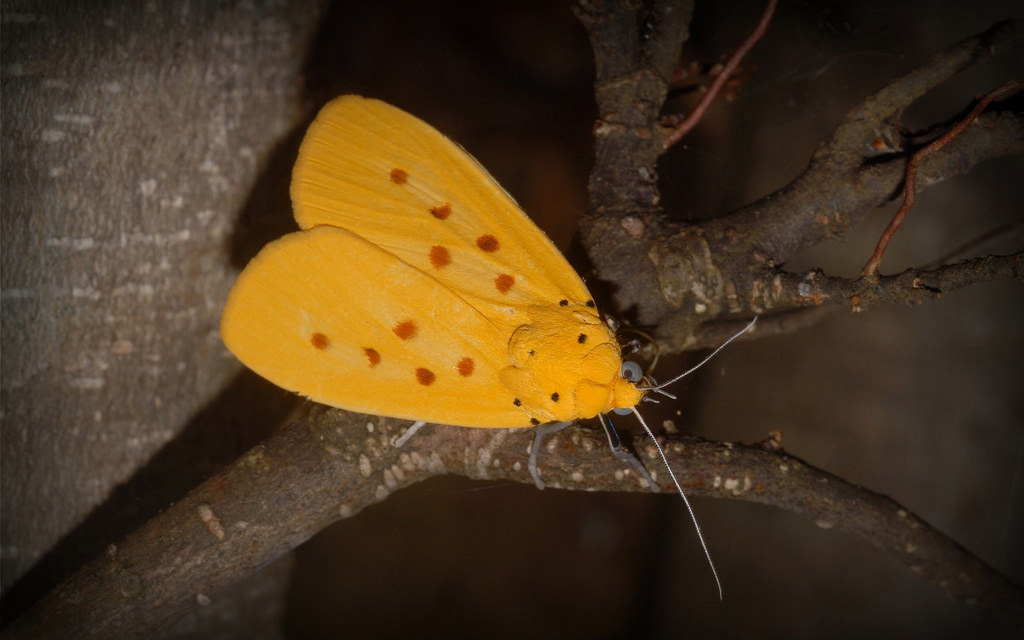Agape chloropyga: (219, 93, 768, 605)
moth: (221, 95, 770, 607)
